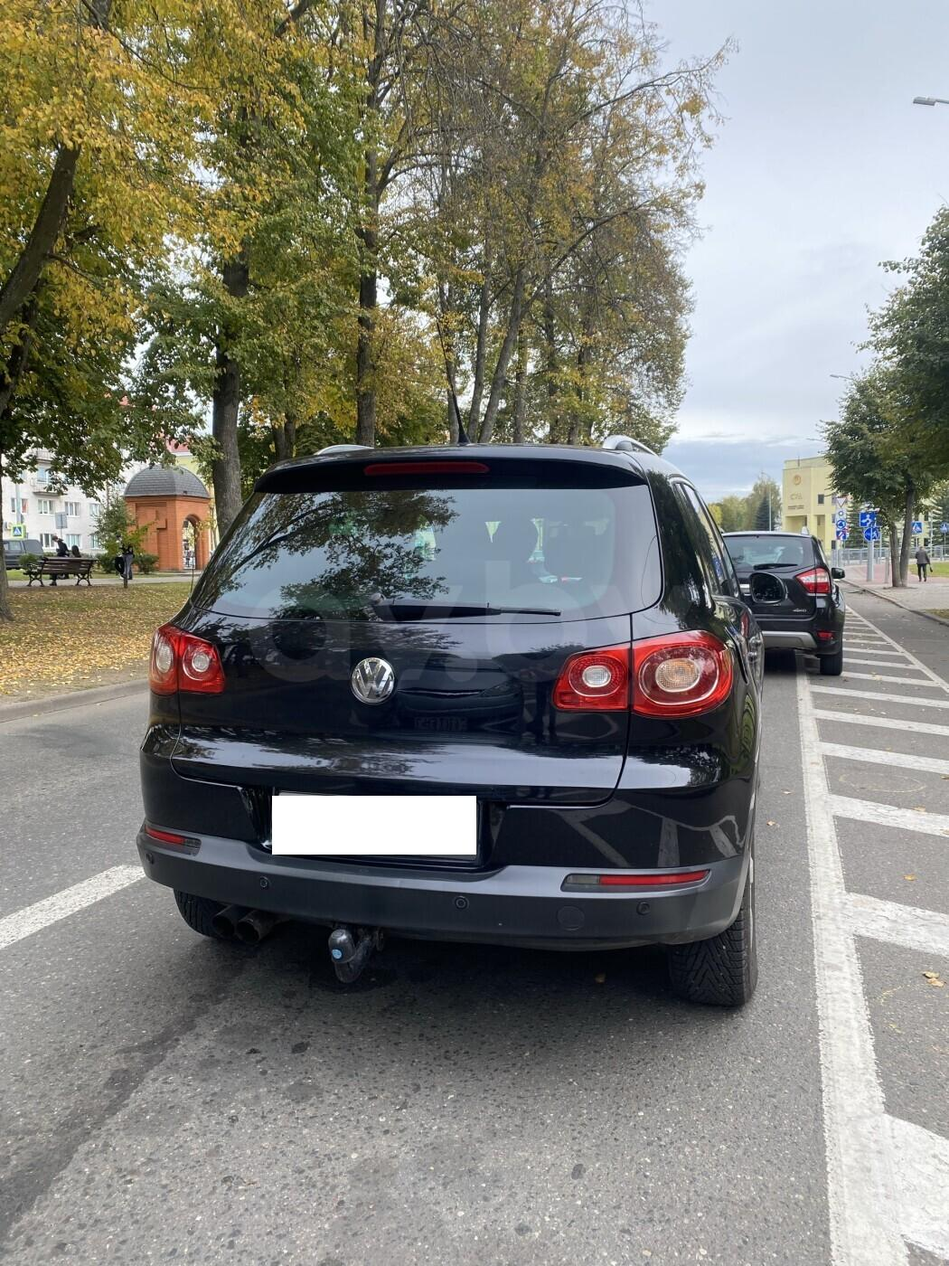Tiguan_2007-2011: (130, 434, 766, 1007)
